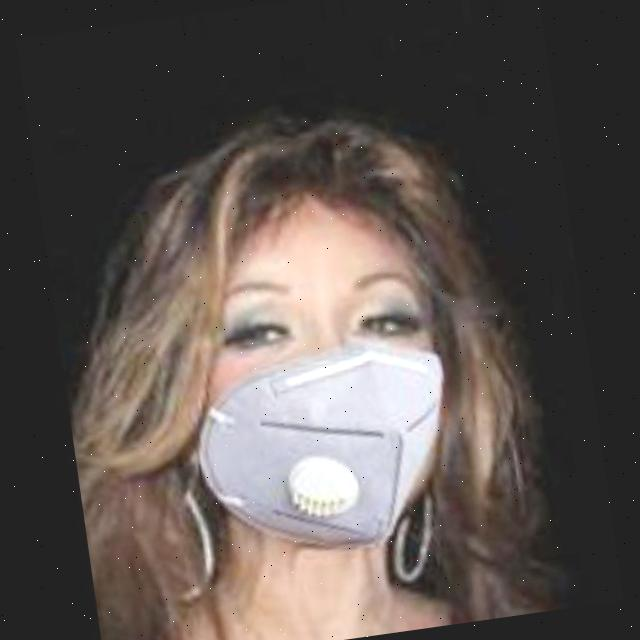suspicion: (149, 108, 497, 578)
